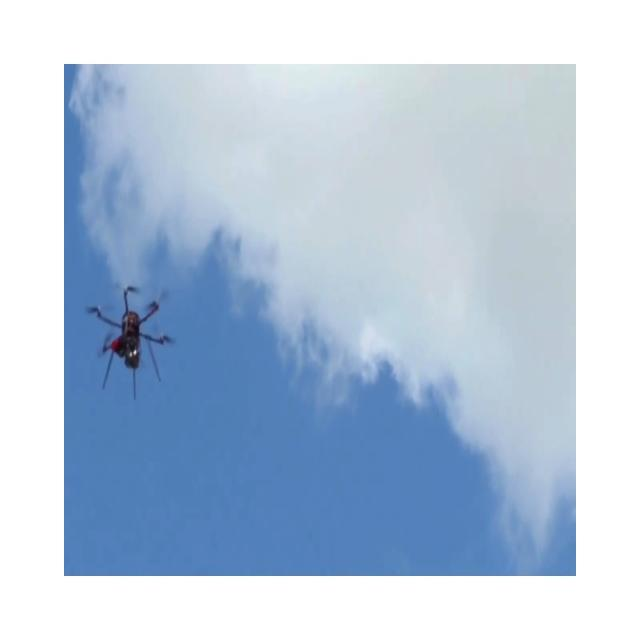drone: (85, 284, 175, 400)
